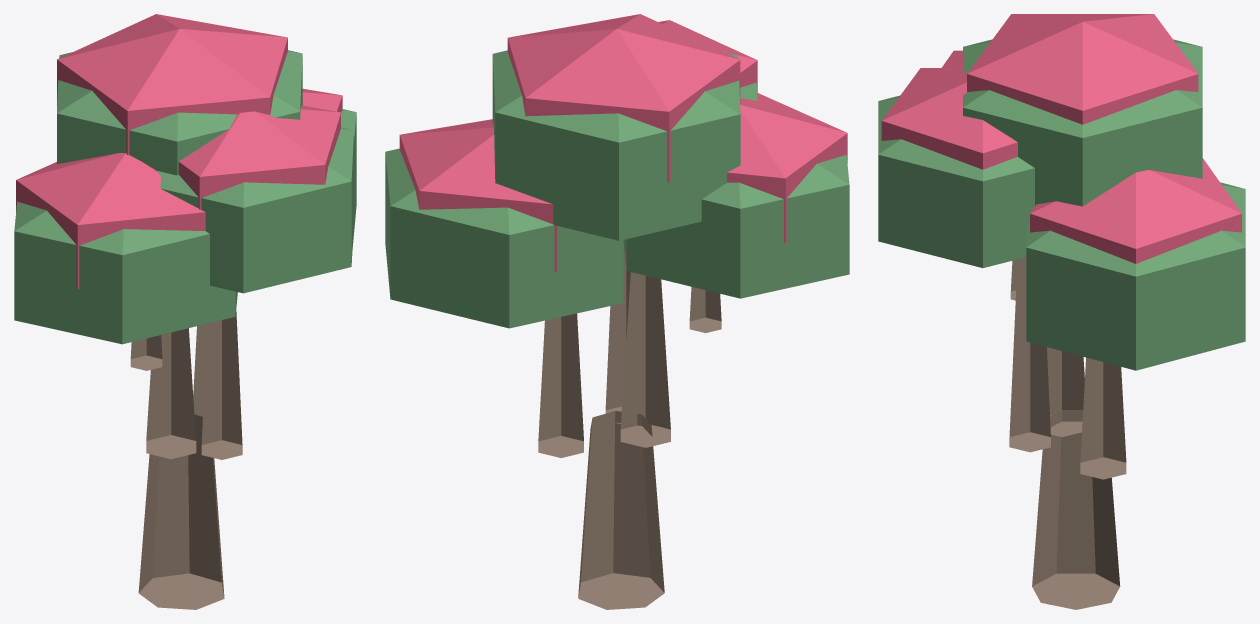
The model's file is flora_27_rhododendron_do_quyen_langbiang_tree.glb.
3 renders of one model, left to right at view 1: azimuth 30°, elevation 25°; view 2: azimuth 150°, elevation 25°; view 3: azimuth 270°, elevation 25°, orthographic.
Parts seen in each view (by area): view 1: flora_27_rhododendron_do_quyen_langbiang_tree; view 2: flora_27_rhododendron_do_quyen_langbiang_tree; view 3: flora_27_rhododendron_do_quyen_langbiang_tree.
Part boxes in pixels (x1=…): flora_27_rhododendron_do_quyen_langbiang_tree: x1=14, y1=14, x2=356, y2=609; flora_27_rhododendron_do_quyen_langbiang_tree: x1=385, y1=14, x2=849, y2=609; flora_27_rhododendron_do_quyen_langbiang_tree: x1=878, y1=14, x2=1245, y2=609.
Bounding box in the file's own units: 3.54 × 4.72 × 2.76.
